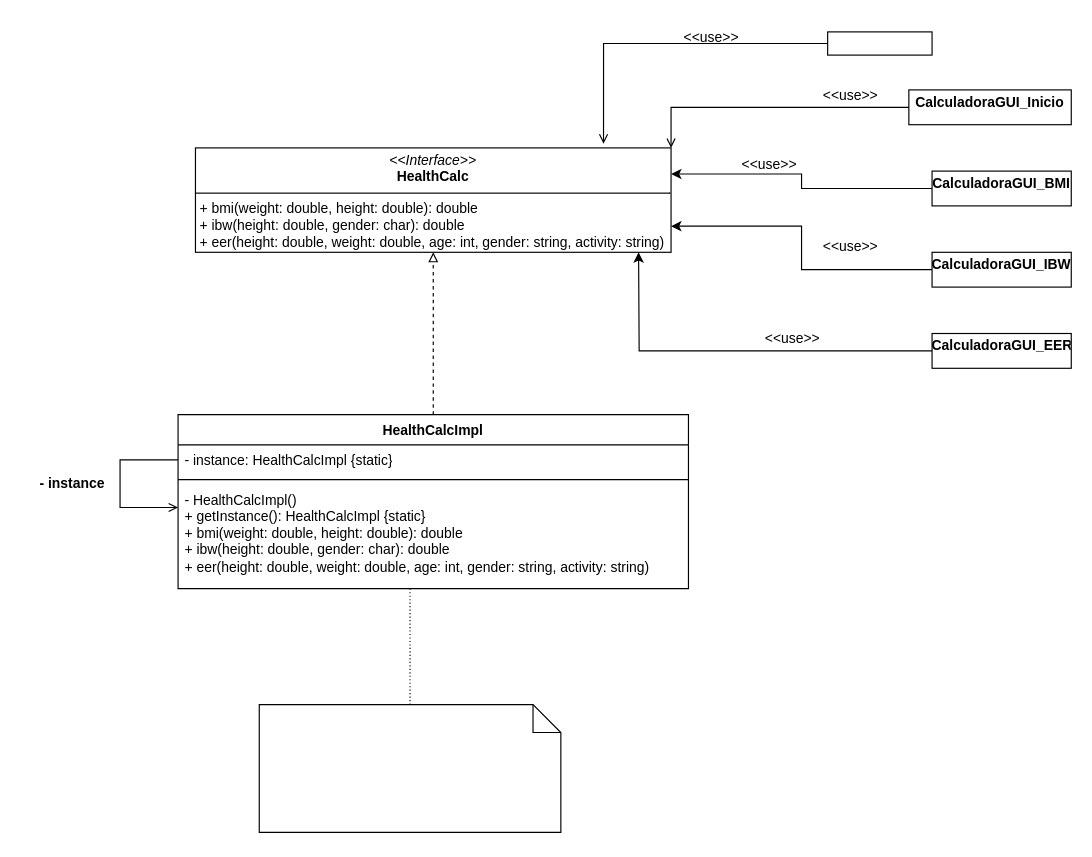
The diagram is 1092 pixels wide and 857 high, and some of its shapes have lost their labels. Each missing label, with the centre of its shape:
"if (instance==null) { instance = new HealthCalcImpl() } return instance;" goes at [409,768].
"Main" goes at [879,43].
